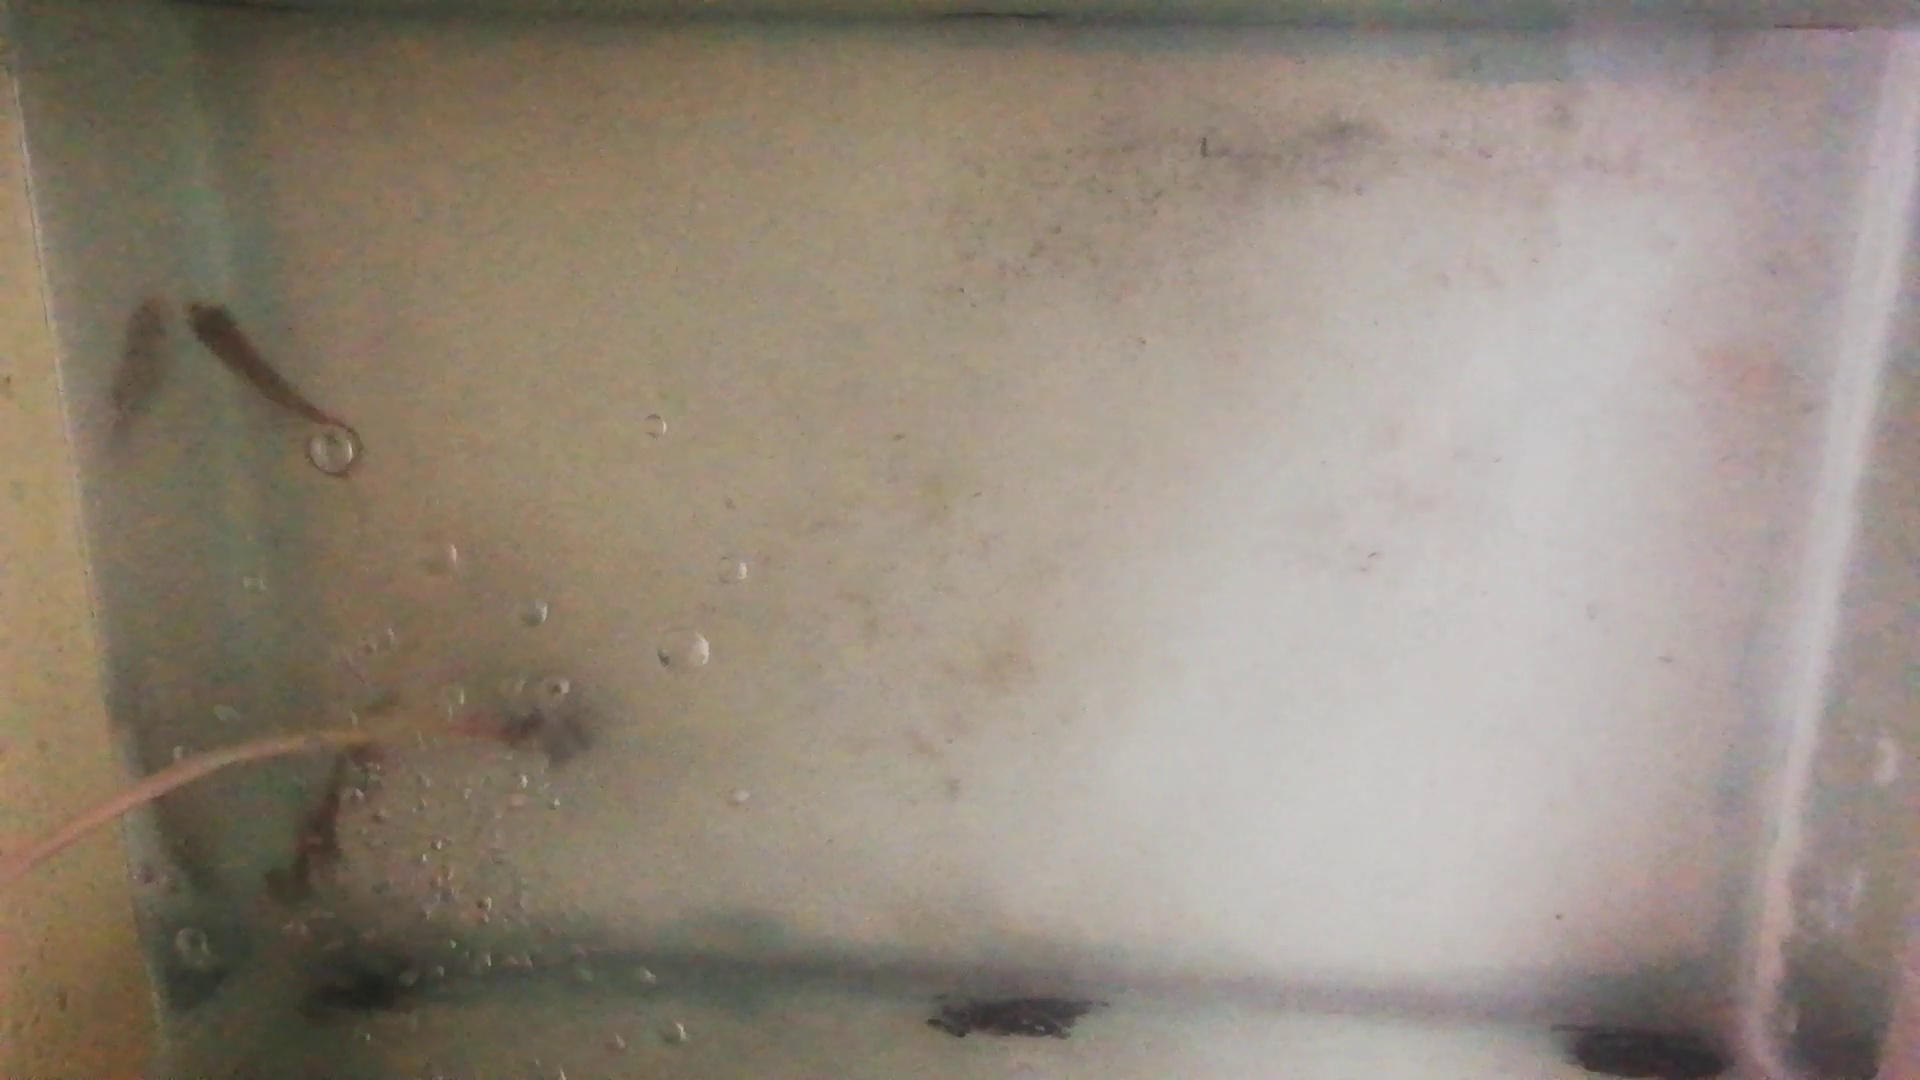fish: (185, 298, 326, 426), (295, 736, 375, 877)
